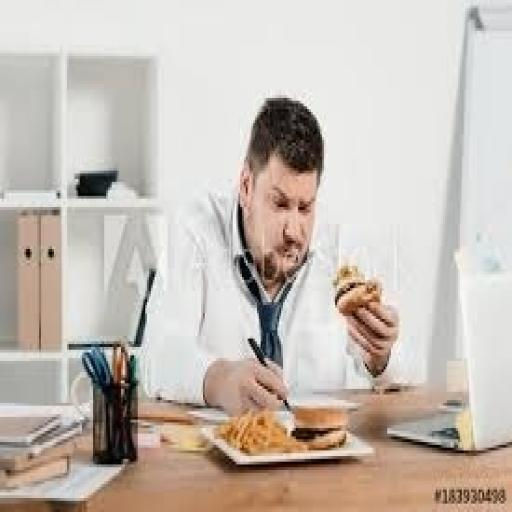eating: (138, 92, 400, 417)
